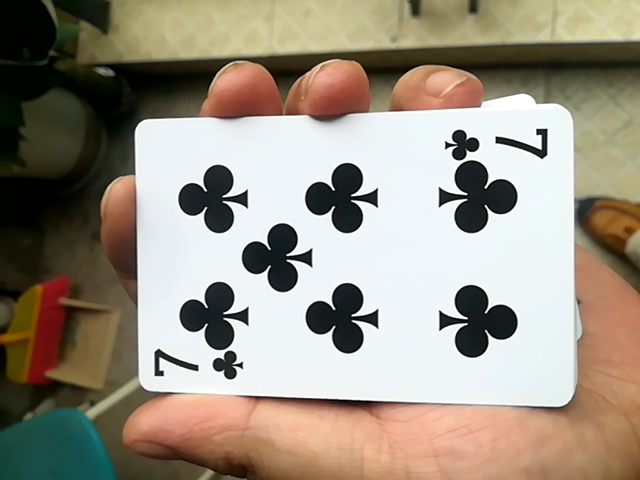mh 7: (121, 104, 573, 413)
